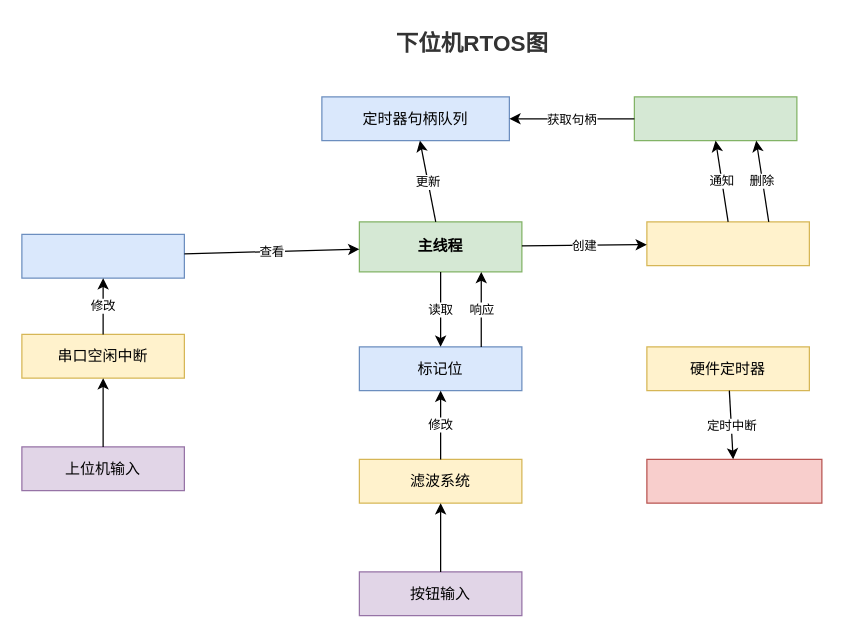
The diagram is 844 pixels wide and 638 high, and some of its shapes have lost their labels. The shapes that lost their labels are listed below. From the top down, each one's centre as x and y in pixels, then its label:
pixel 715 118: 步进电机线程
pixel 102 255: 定时器标记位
pixel 727 243: 软定时器
pixel 734 480: 直流电机PID控制
